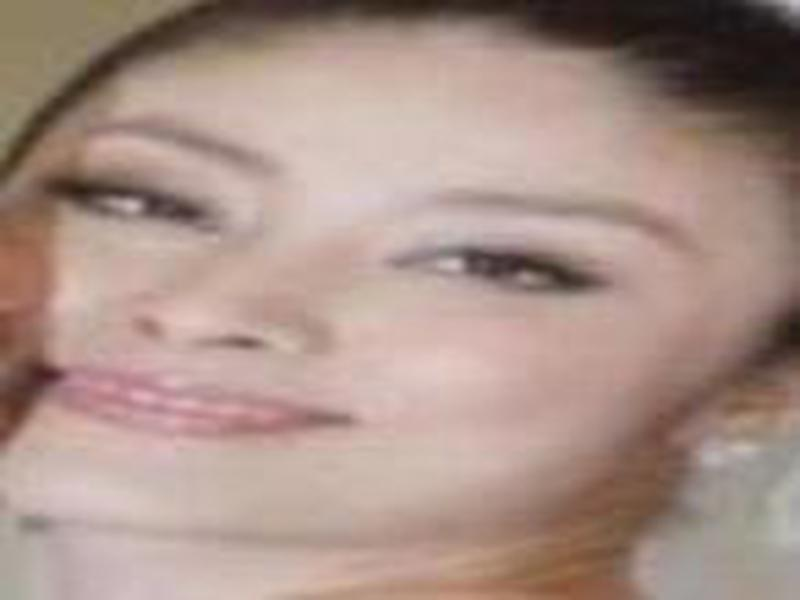without_mask: (4, 42, 749, 555)
